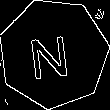N_N: (31, 26, 76, 81)
